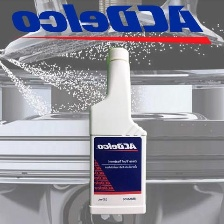cleaning_solution: (86, 45, 150, 218)
